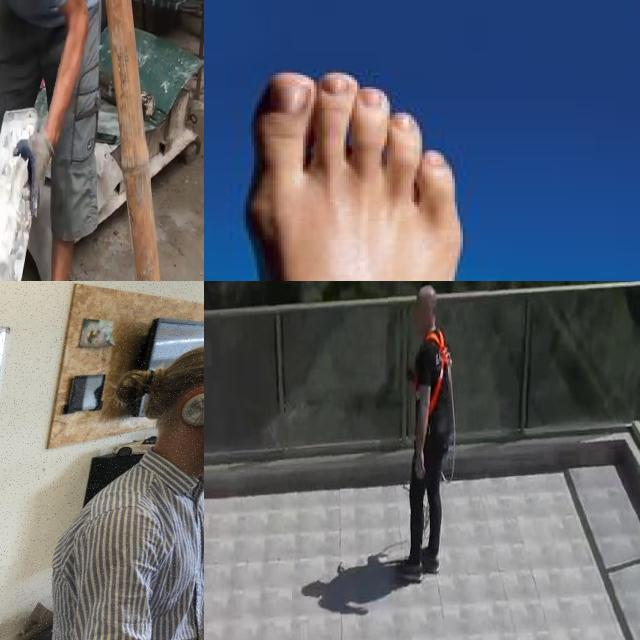Barefoots: (245, 67, 474, 281)
Ear-protection: (135, 336, 204, 489)
Harness: (425, 328, 452, 414)
hand_glove: (13, 121, 57, 221)
